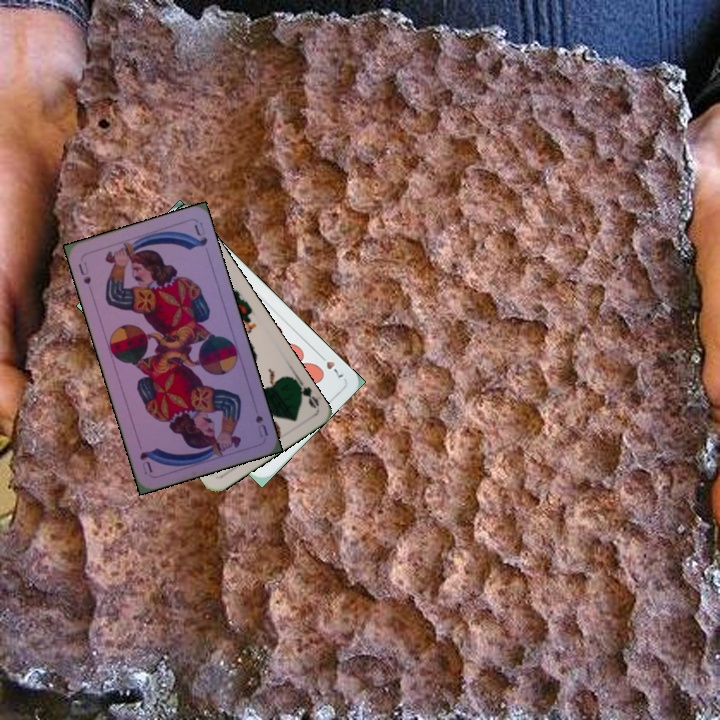GO: (289, 373, 322, 410)
H7: (314, 349, 346, 381)
SU: (74, 257, 94, 287), (251, 411, 271, 440)
